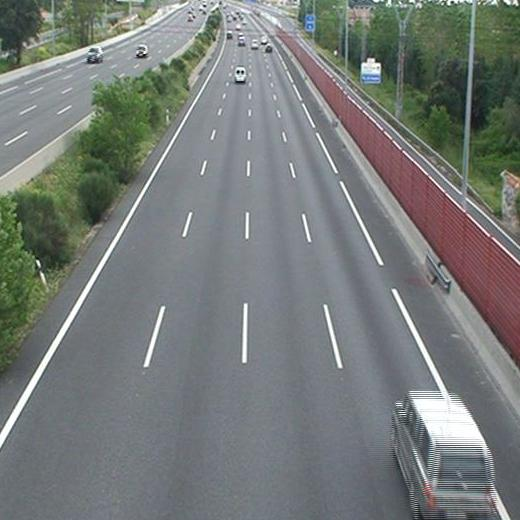car: (393, 395, 492, 516), (264, 43, 273, 52), (250, 39, 257, 49), (238, 37, 245, 45)
van: (234, 67, 246, 82)
